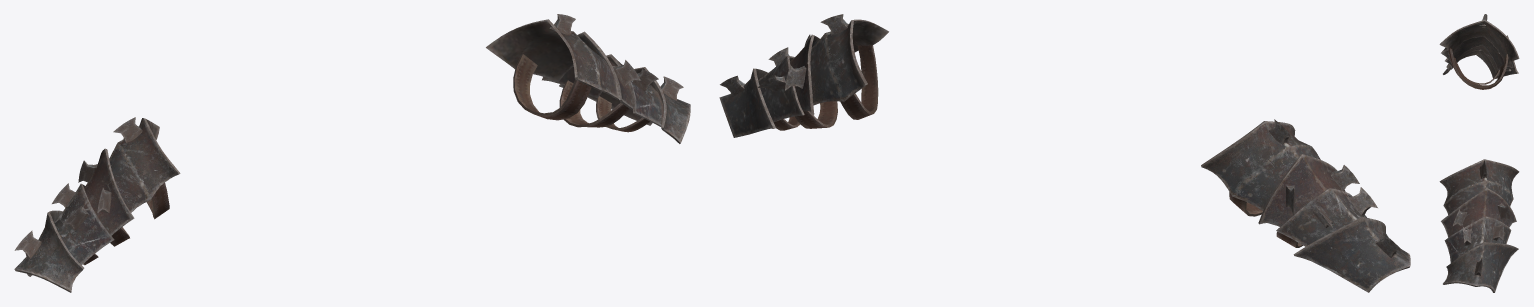
The model's file is sk_dg_uruk_bracer_elite_f.fbx.
3 views of the same model, side by side, from view 1: azimuth 30°, elevation 25°; view 2: azimuth 150°, elevation 25°; view 3: azimuth 270°, elevation 25° (orthographic). The views are drawn at different scales.
Parts seen in each view (by area): view 1: sk_dg_uruk_bracer_elite_f; view 2: sk_dg_uruk_bracer_elite_f; view 3: sk_dg_uruk_bracer_elite_f.
Boxes of the visible parts, box(x1,y1,x2,y2) form: sk_dg_uruk_bracer_elite_f: box(14, 14, 690, 292); sk_dg_uruk_bracer_elite_f: box(719, 14, 1410, 292); sk_dg_uruk_bracer_elite_f: box(1439, 14, 1519, 292).
Bounding box in the file's own units: 1.48 × 0.2151 × 0.294.
Materials: 1 (1 with a texture image).
